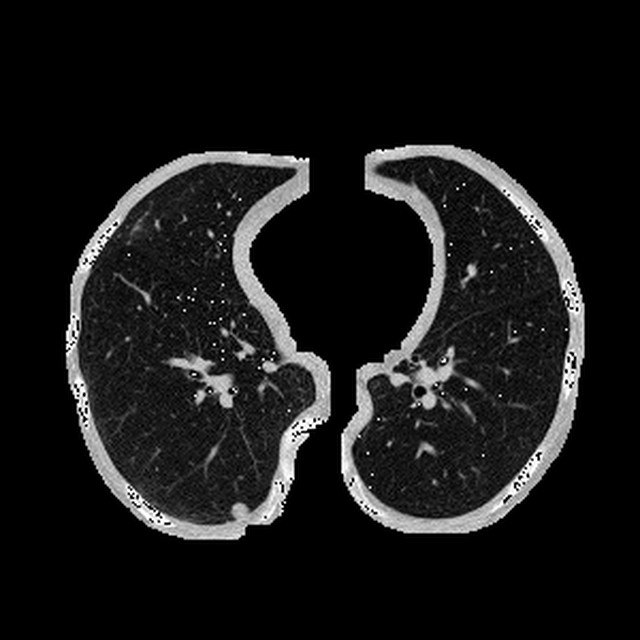PN: (230, 501, 247, 518)
